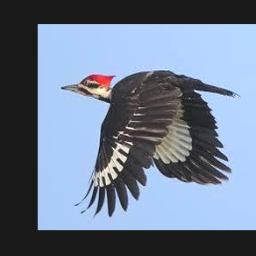Woodpecker: (61, 69, 242, 217)
